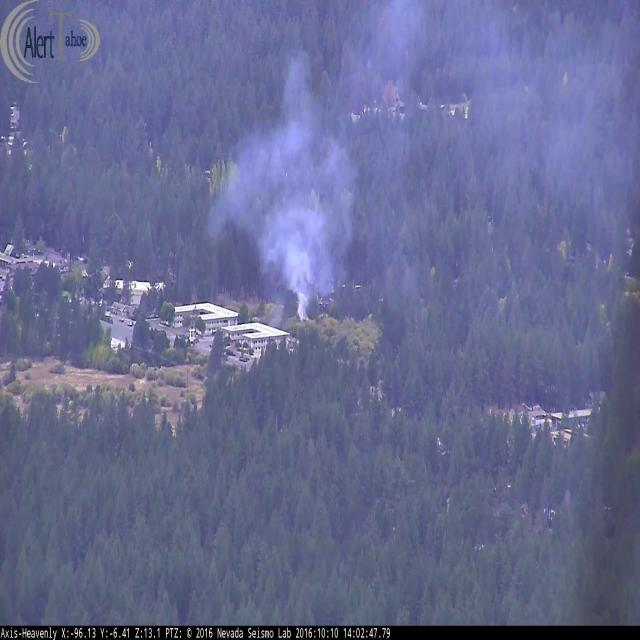smoke: (203, 38, 369, 328)
